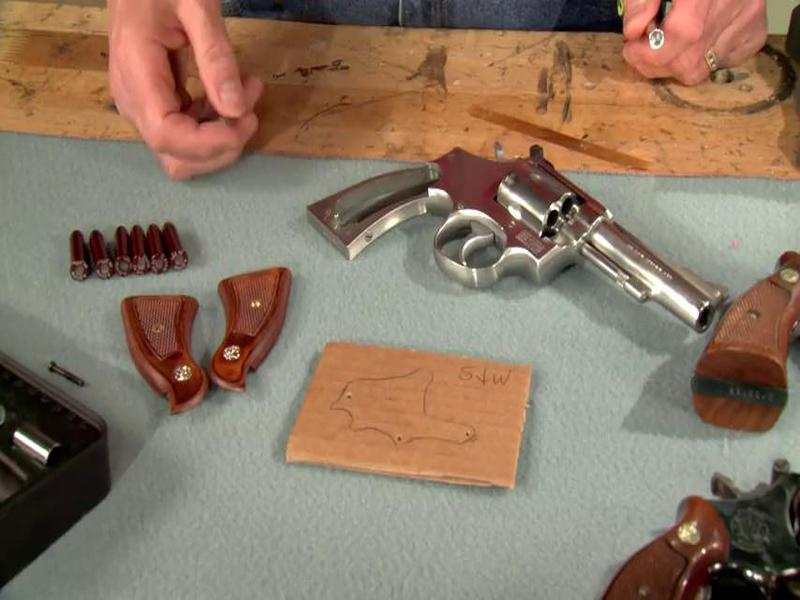Revolver: (284, 113, 724, 378)
